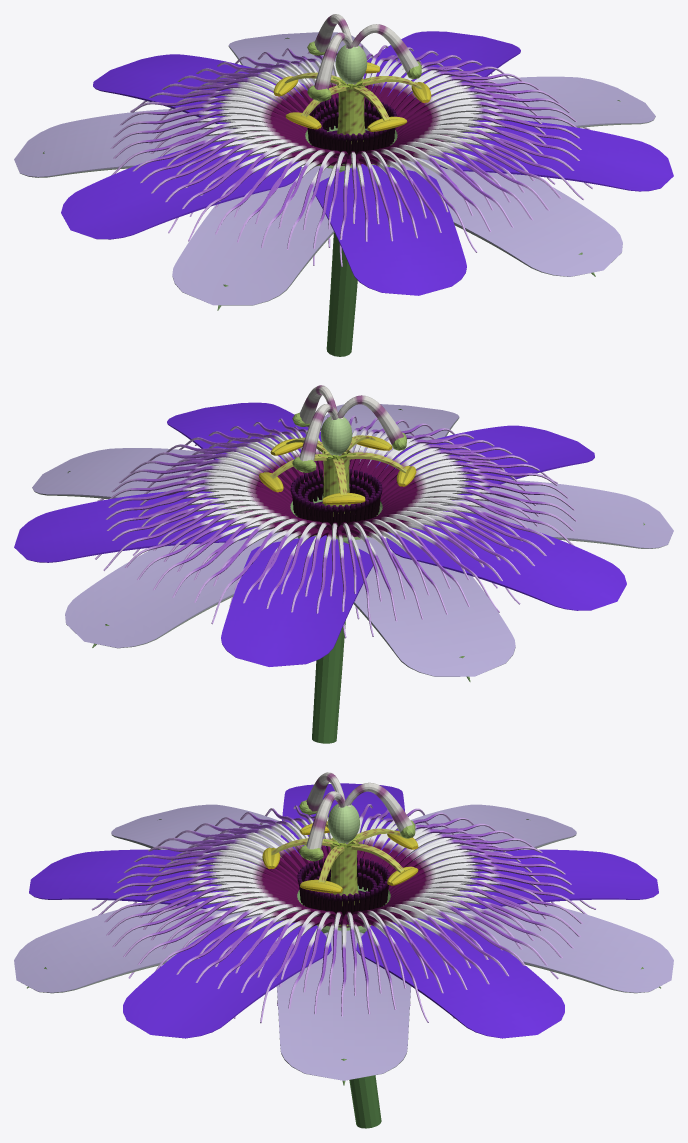
Rendered from passiflora_incarnata.obj.
3 views of the same model, one above another, from view 1: azimuth 30°, elevation 25°; view 2: azimuth 150°, elevation 25°; view 3: azimuth 270°, elevation 25° (orthographic).
Parts seen in each view (by area): view 1: Caliz_Sepalos, Corola_Petalos, Corona_Filamentos_Radii, Gineceo_Estilos_Estigmas, Pedicelo_Hipanto, Androceo_Estambres, Corona_Interna_Pali, Columna_Androginoforo, Gineceo_Ovario_Supero; view 2: Caliz_Sepalos, Corola_Petalos, Corona_Filamentos_Radii, Corona_Interna_Pali, Gineceo_Estilos_Estigmas, Androceo_Estambres, Pedicelo_Hipanto, Gineceo_Ovario_Supero, Columna_Androginoforo; view 3: Caliz_Sepalos, Corola_Petalos, Corona_Filamentos_Radii, Gineceo_Estilos_Estigmas, Corona_Interna_Pali, Androceo_Estambres, Pedicelo_Hipanto, Columna_Androginoforo, Gineceo_Ovario_Supero.
Part boxes in pixels (x1,y1,x2,y2): Caliz_Sepalos: (14, 32, 655, 310); Corola_Petalos: (61, 31, 673, 295); Corona_Filamentos_Radii: (110, 44, 592, 266); Gineceo_Estilos_Estigmas: (307, 14, 421, 101); Pedicelo_Hipanto: (305, 125, 397, 356); Androceo_Estambres: (273, 62, 431, 131); Corona_Interna_Pali: (307, 97, 396, 155); Columna_Androginoforo: (337, 78, 365, 143); Gineceo_Ovario_Supero: (335, 45, 367, 83); Caliz_Sepalos: (32, 404, 673, 681); Corola_Petalos: (14, 402, 626, 666); Corona_Filamentos_Radii: (95, 415, 577, 638); Corona_Interna_Pali: (290, 469, 382, 527); Gineceo_Estilos_Estigmas: (292, 385, 406, 472); Androceo_Estambres: (259, 435, 416, 504); Pedicelo_Hipanto: (290, 494, 382, 743); Gineceo_Ovario_Supero: (320, 416, 352, 455); Columna_Androginoforo: (322, 450, 350, 516); Caliz_Sepalos: (14, 804, 673, 1085); Corola_Petalos: (29, 783, 658, 1038); Corona_Filamentos_Radii: (91, 804, 595, 1023); Gineceo_Estilos_Estigmas: (299, 772, 415, 861); Corona_Interna_Pali: (297, 857, 390, 916); Androceo_Estambres: (262, 821, 418, 893); Pedicelo_Hipanto: (297, 885, 390, 1128); Columna_Androginoforo: (329, 837, 359, 905); Gineceo_Ovario_Supero: (328, 804, 359, 843).
Bounding box in the file's own units: 94.61 × 52.9 × 92.69.
